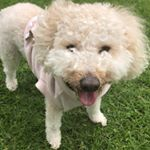puppy: (35, 1, 136, 148)
